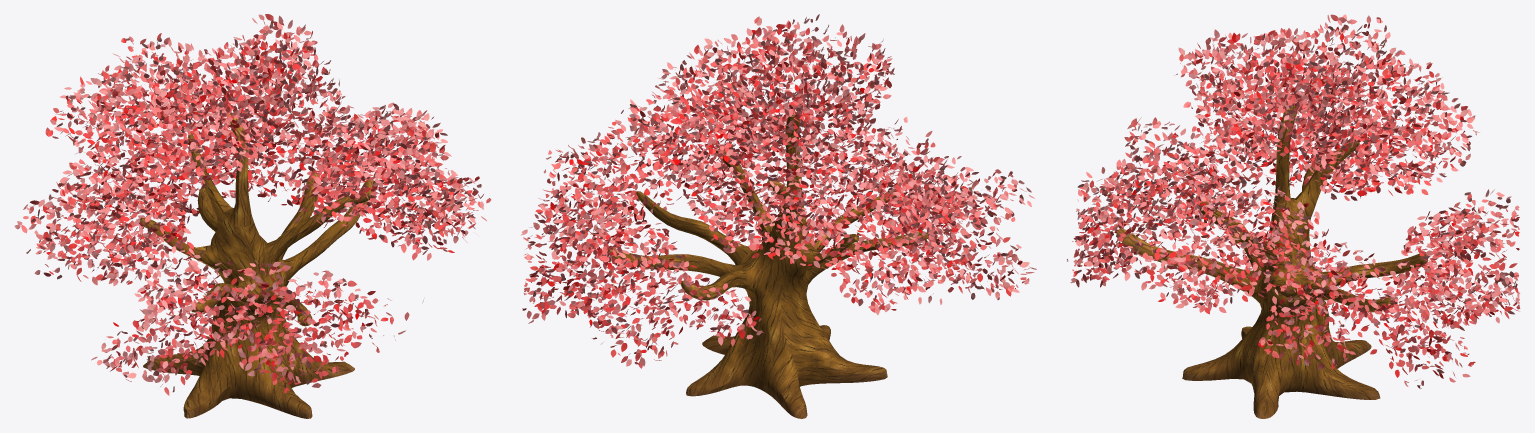
The model's file is sakura_big.gltf.
3 renders of one model, left to right at view 1: azimuth 30°, elevation 25°; view 2: azimuth 150°, elevation 25°; view 3: azimuth 270°, elevation 25°, orthographic. The views are drawn at different scales.
Visible parts, largest first — view 1: sakura_big; view 2: sakura_big; view 3: sakura_big.
Boxes of the visible parts, x1=… form: sakura_big: x1=14, y1=14, x2=491, y2=418; sakura_big: x1=520, y1=14, x2=1036, y2=418; sakura_big: x1=1067, y1=14, x2=1520, y2=418.
Bounding box in the file's own units: 20.94 × 16.22 × 20.04.
2 materials, 2 textured.
